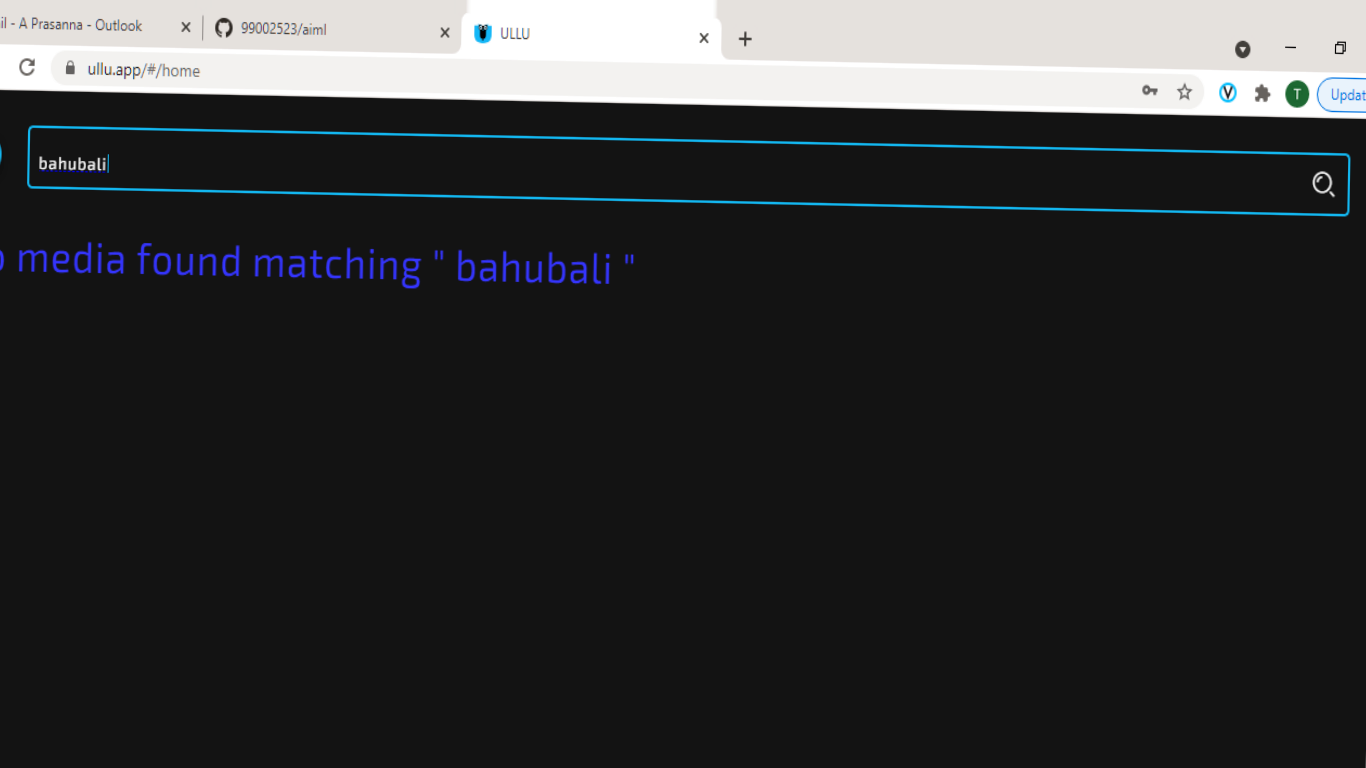noresultsfound: (1, 223, 661, 312)
searchicon: (1290, 151, 1349, 208)
searchtextbox: (19, 116, 1346, 229)
